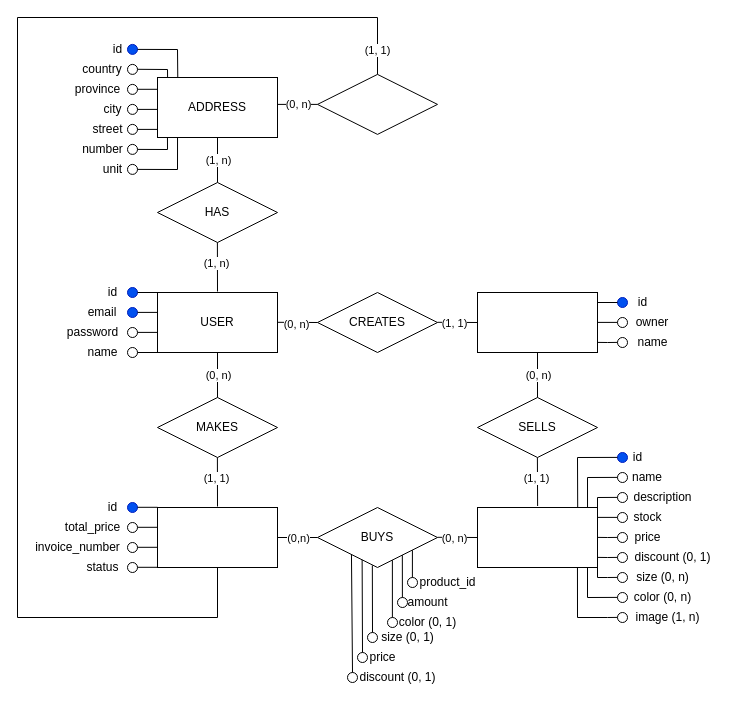
The diagram is 740 pixels wide and 710 high, and some of its shapes have lost their labels. Each missing label, with the centre of its shape:
"IS SENT" goes at pixel 377 103.
"ORDER" goes at pixel 217 537.
"PRODUCT" goes at pixel 537 537.
"SHOP" goes at pixel 537 322.
